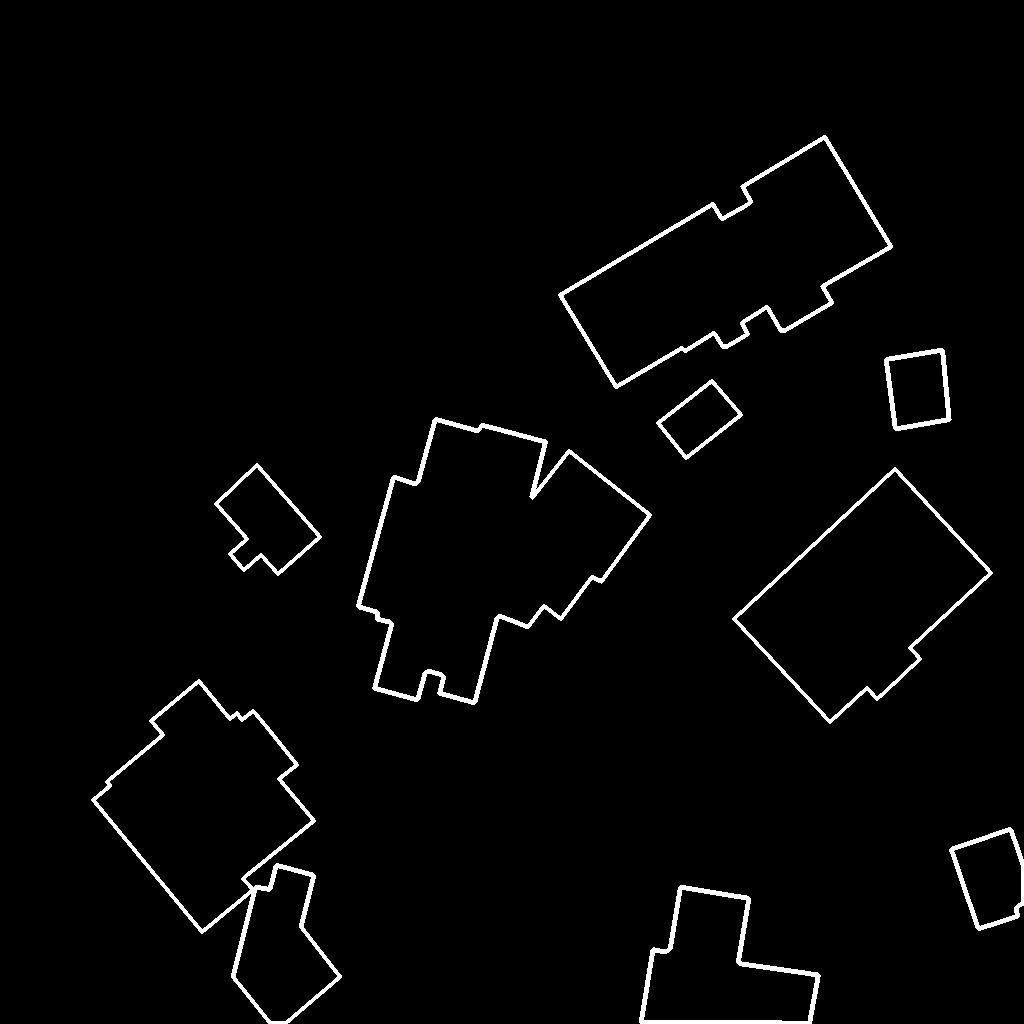building: (358, 419, 651, 704), (560, 137, 892, 388), (734, 469, 992, 723), (93, 681, 315, 933), (641, 887, 820, 1024), (233, 865, 341, 1024), (216, 465, 321, 575), (951, 829, 1024, 930), (658, 381, 742, 459), (886, 350, 950, 430)
